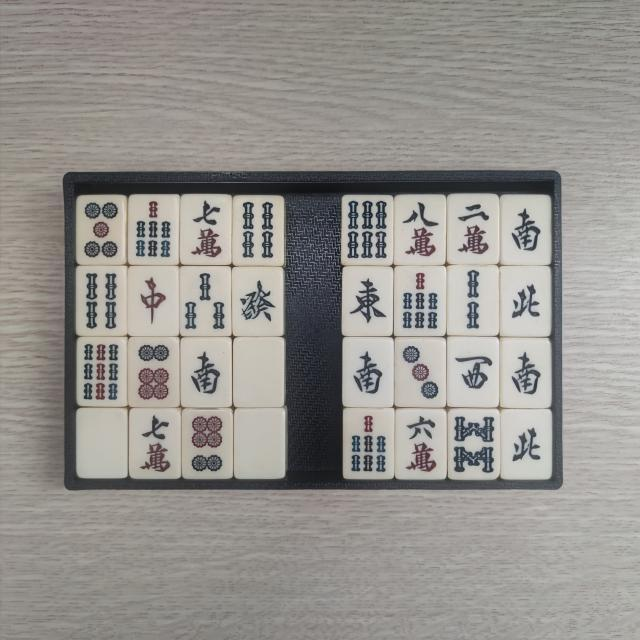hdg: (237, 272, 278, 334)
hdr: (134, 268, 174, 332)
hdw: (82, 413, 123, 473), (239, 342, 280, 402), (240, 413, 280, 473)
hwe: (346, 270, 388, 331)
hwn: (507, 414, 548, 474), (508, 270, 548, 330)
hws: (506, 341, 548, 403), (346, 342, 388, 402), (186, 342, 228, 402), (506, 198, 547, 258)
hww: (451, 340, 495, 402)
sb2: (450, 268, 496, 332)
sb3: (184, 270, 228, 332)
sb4: (82, 268, 123, 332), (239, 200, 280, 262)
sb6: (346, 198, 388, 260)
sb7: (348, 413, 392, 476), (400, 269, 443, 332), (132, 198, 174, 260)
sb8: (452, 414, 495, 478)
sb9: (81, 342, 122, 404)
sc2: (452, 197, 494, 259)
sc6: (402, 412, 442, 474)
sc7: (186, 198, 228, 260), (136, 412, 176, 475)
sc8: (400, 198, 442, 260)
sd3: (400, 342, 442, 404)
sd5: (81, 198, 122, 260)
sd6: (134, 341, 174, 402), (188, 414, 228, 475)
